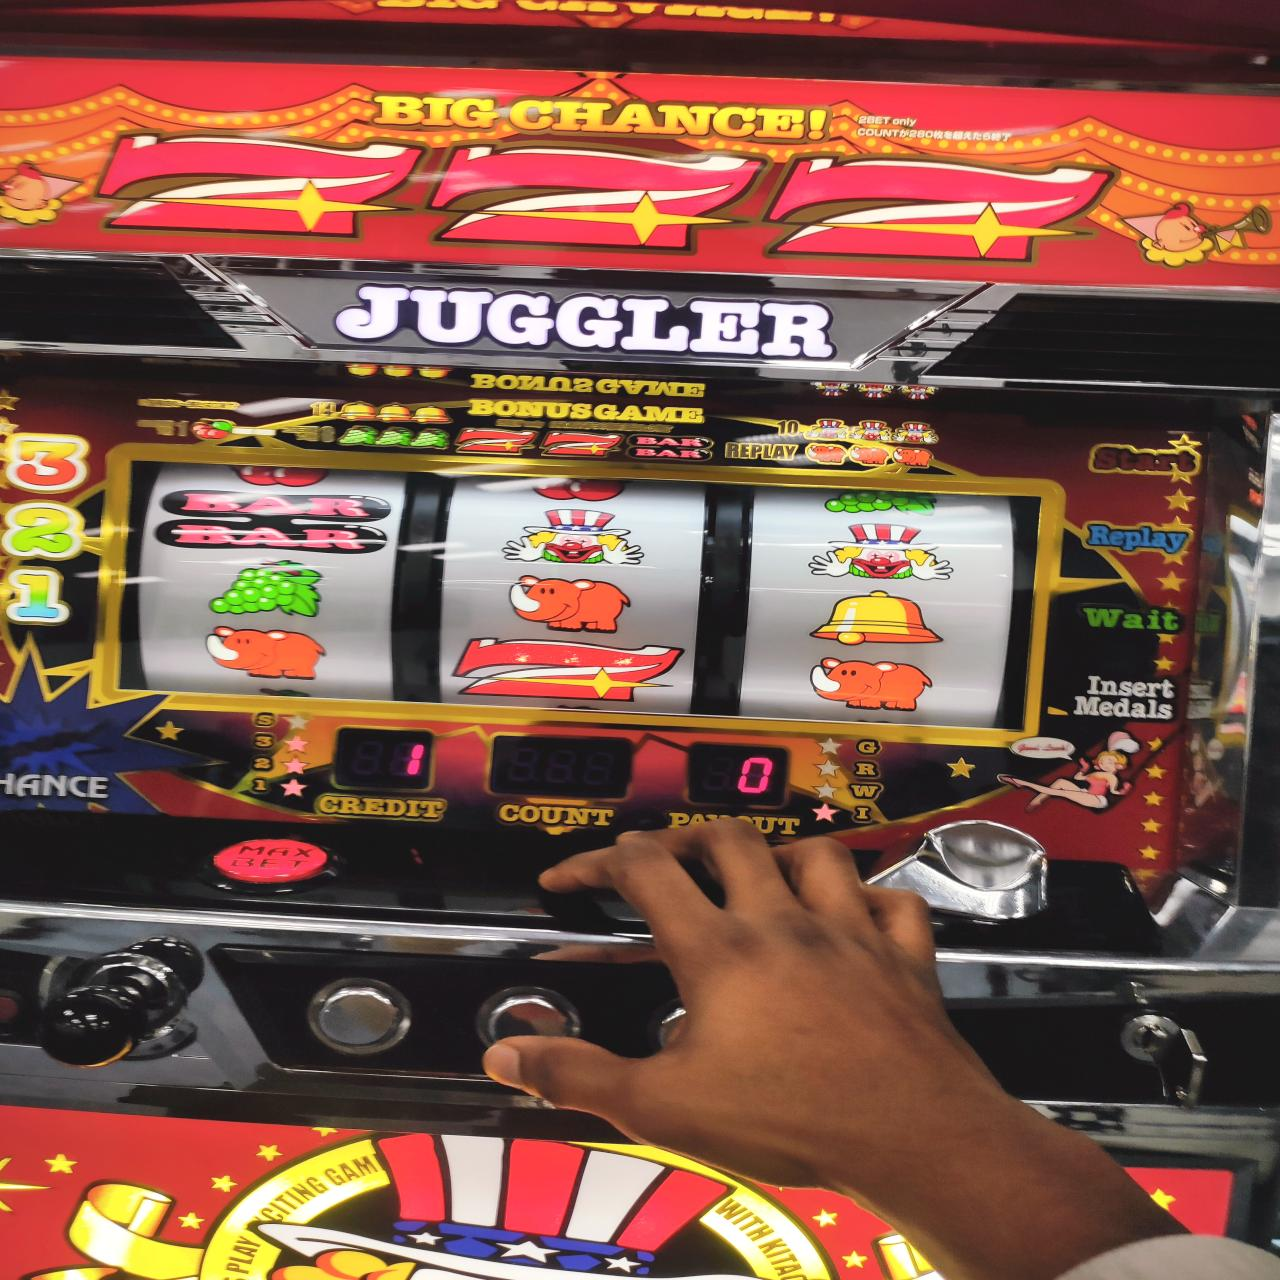7: (454, 638, 685, 703)
8: (806, 656, 934, 710), (205, 625, 326, 681), (511, 577, 633, 632)
Display: (125, 459, 1026, 731)
bar: (156, 488, 387, 554)
bell: (810, 588, 940, 647)
clown: (809, 523, 955, 586), (501, 506, 645, 568)
grape: (207, 556, 328, 622)
